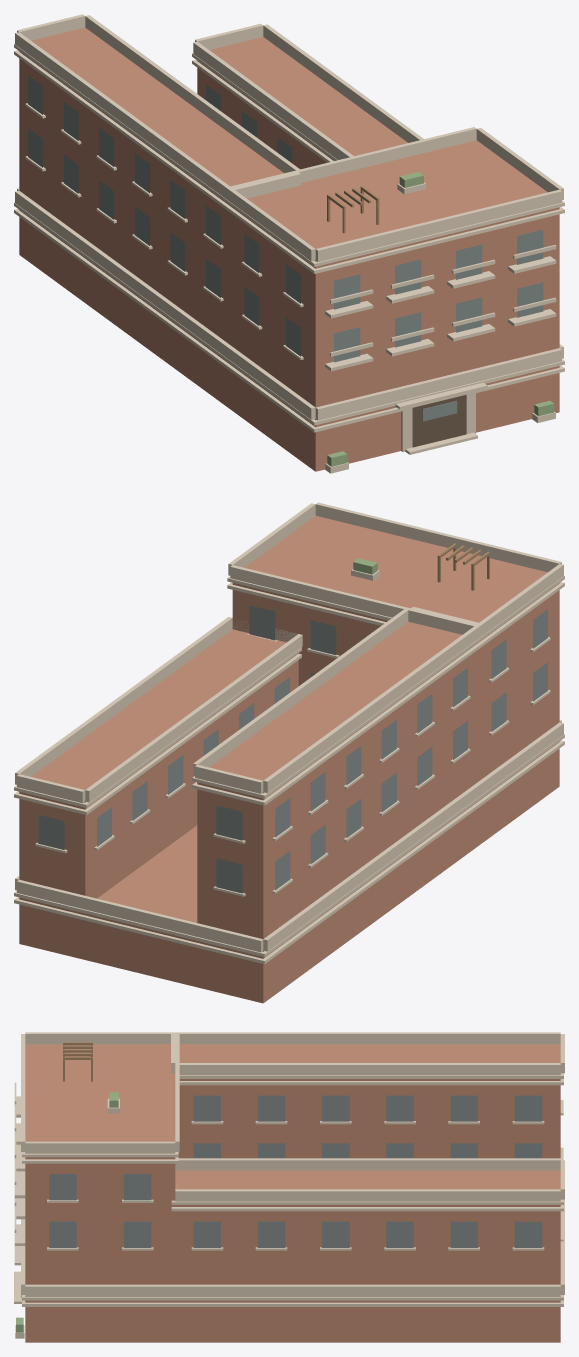
The model's file is residential_2x4_court.glb.
The picture shows the model from 3 angles, top to bottom: view 1: azimuth 30°, elevation 25°; view 2: azimuth 150°, elevation 25°; view 3: azimuth 270°, elevation 25°; orthographic projection. The views are drawn at different scales.
Visible parts, largest first — view 1: residential_2x4_court_0; view 2: residential_2x4_court_0; view 3: residential_2x4_court_0.
Part boxes in pixels (x1=…): residential_2x4_court_0: x1=14, y1=14, x2=564, y2=473; residential_2x4_court_0: x1=14, y1=502, x2=564, y2=1003; residential_2x4_court_0: x1=14, y1=1032, x2=564, y2=1342.
Bounding box in the file's own units: 15 × 13.5 × 31.4.
